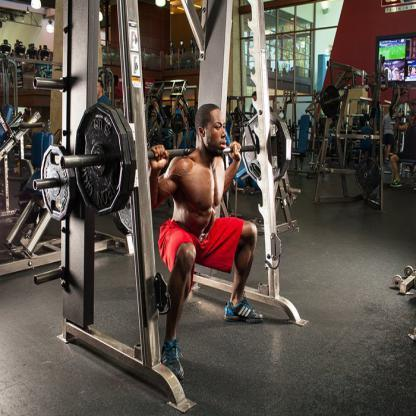barbell: (59, 99, 293, 218), (30, 145, 74, 220)
